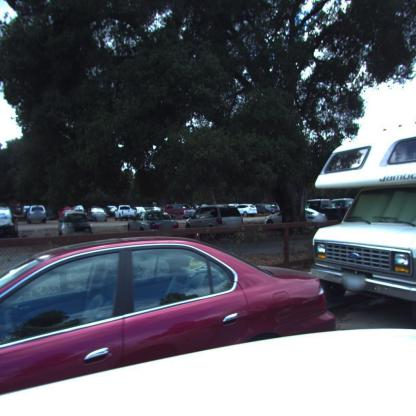car: (1, 237, 336, 412), (184, 203, 242, 237), (306, 197, 355, 224), (129, 211, 177, 234), (60, 212, 94, 235), (0, 206, 17, 239), (26, 206, 47, 224), (163, 203, 187, 218), (116, 204, 137, 219), (90, 207, 109, 222), (235, 204, 258, 216), (106, 204, 117, 216)
truck: (311, 121, 415, 328)
